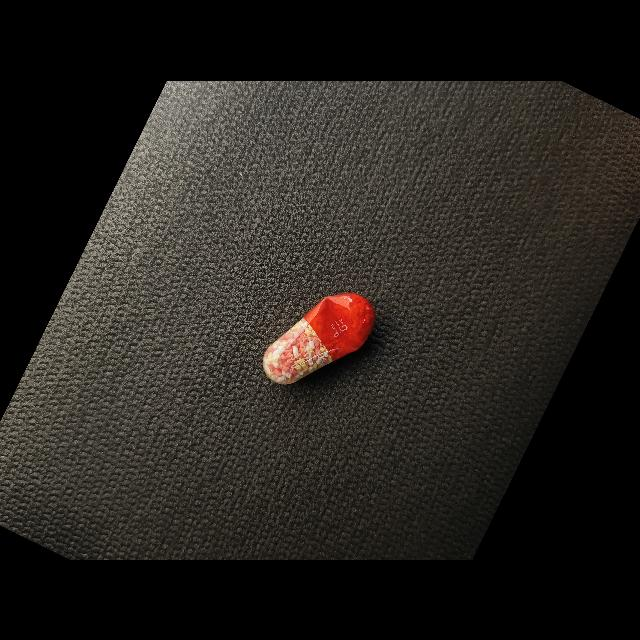Defective Capsule: (263, 292, 375, 384)
